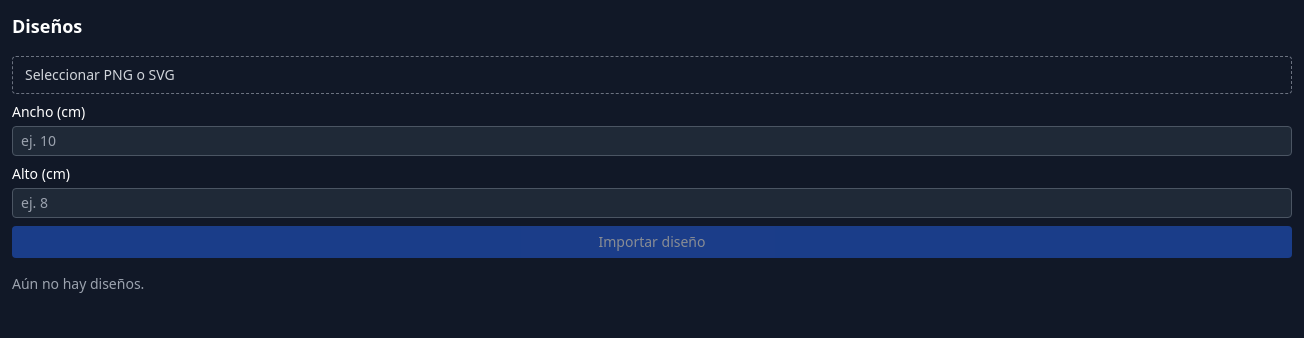
Test case: DesignList import UI › shows a Spanish error message for empty_artwork
Click the button "Seleccionar PNG o SVG" at (100, 74), box [12,56,1292,94]
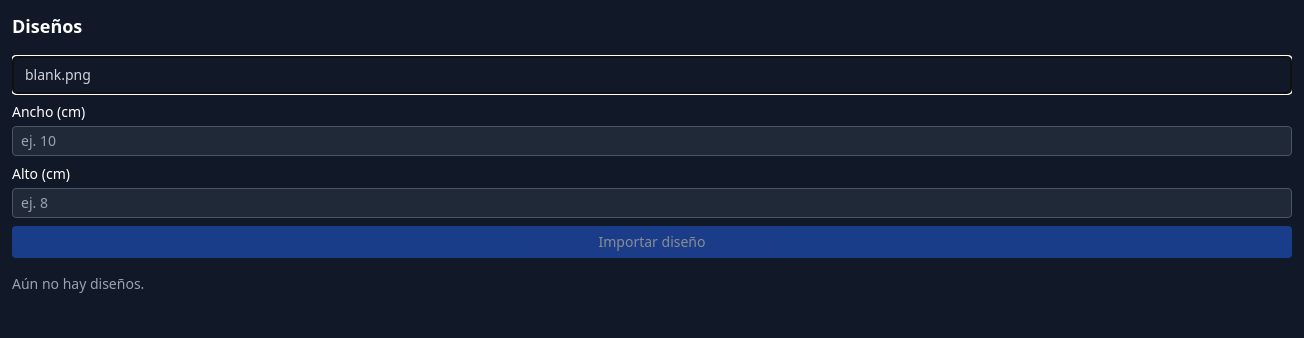
Type "10" into the number field labelled "Ancho (cm)" at (652, 141), box [12,126,1292,156]
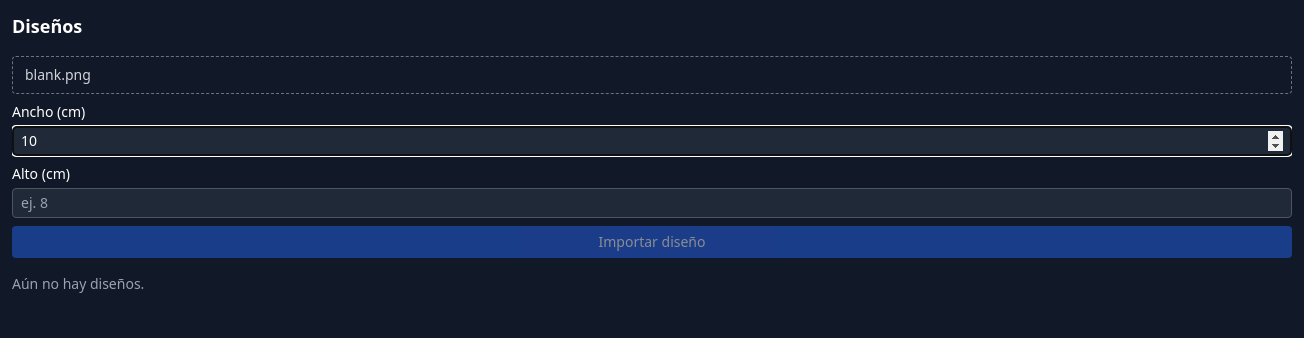
Type "8" into the number field labelled "Alto (cm)" at (652, 203), box [12,188,1292,218]
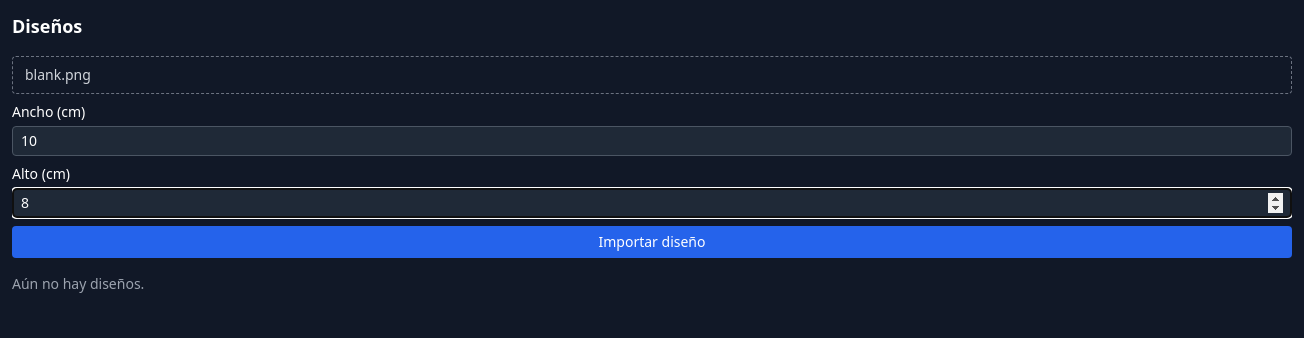
Click the button "Importar diseño" at (652, 242), box [12,226,1292,258]
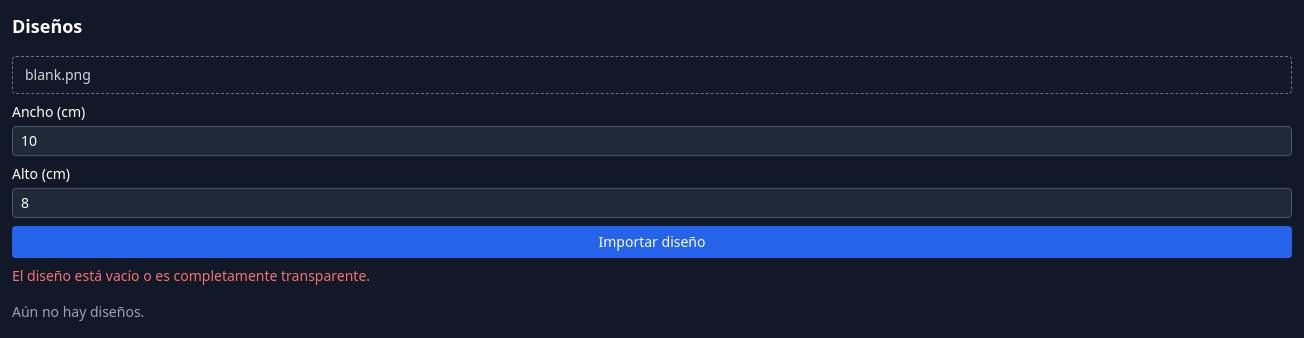
Expected: the message reads "El diseño está vacío o es completamente transparente.", [12,266,370,285]
